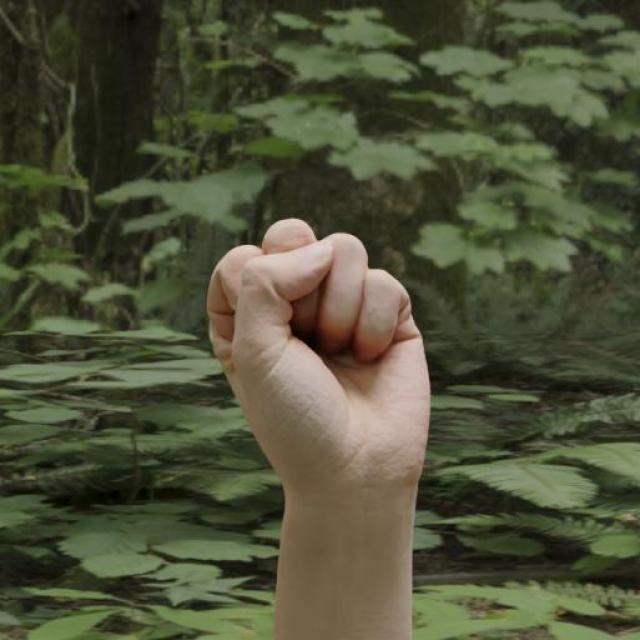S: (198, 212, 447, 516)
